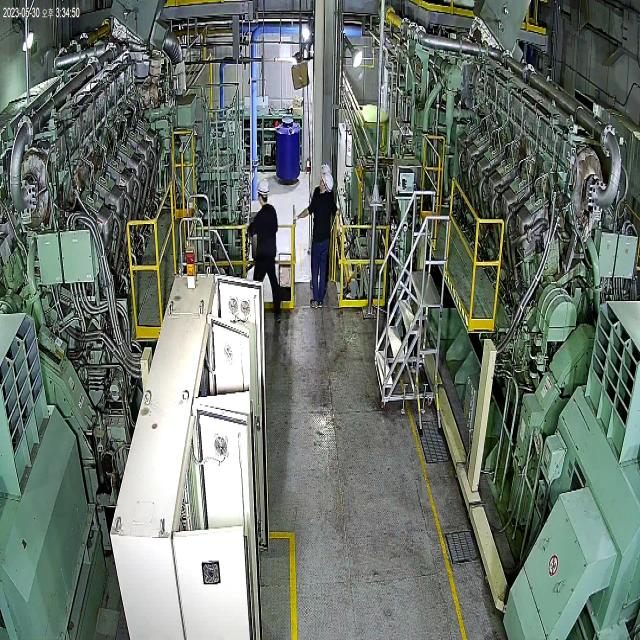Water Tank: (271, 105, 303, 188)
worker: (243, 180, 289, 329), (298, 173, 338, 311), (308, 151, 347, 220)
